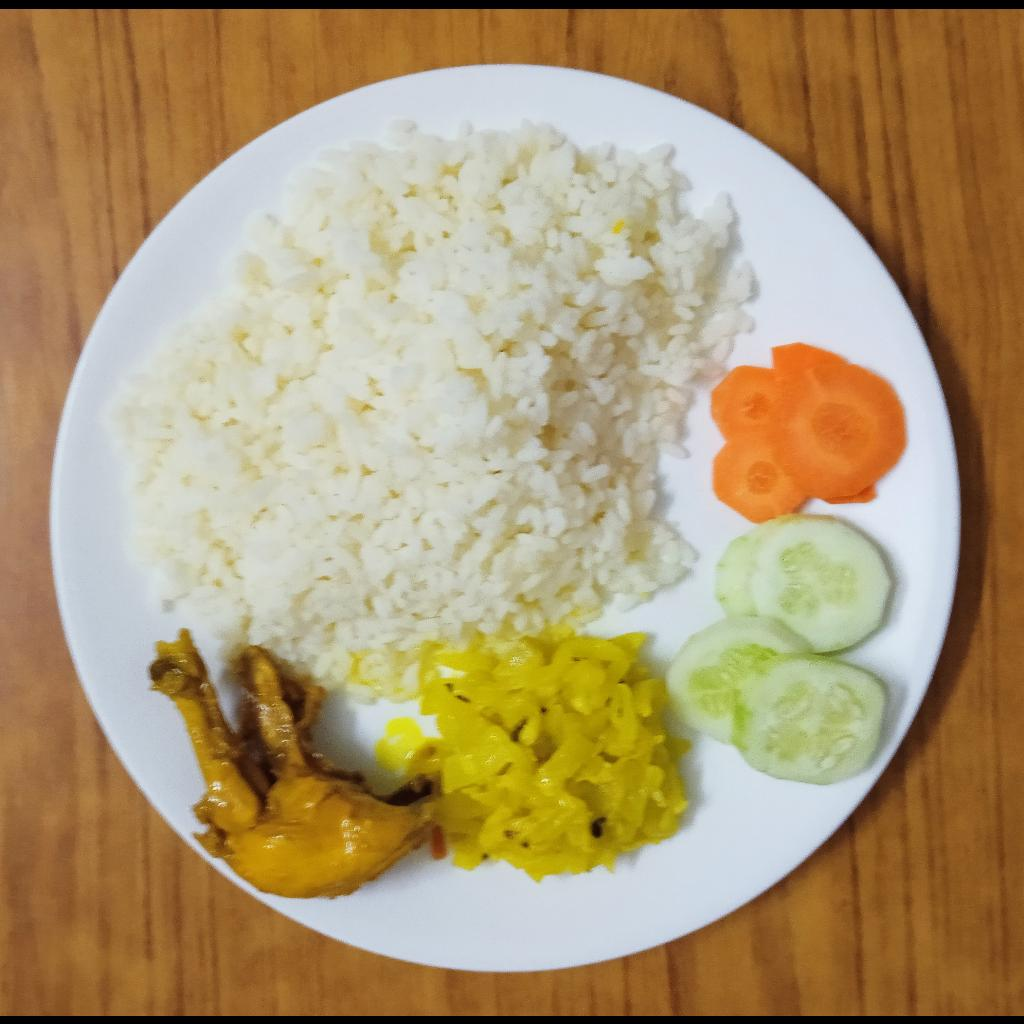carrot: (709, 344, 912, 523)
chicken: (147, 625, 443, 900)
cucumber: (657, 518, 893, 784)
papaya: (413, 632, 687, 882)
rice: (96, 119, 755, 696)
